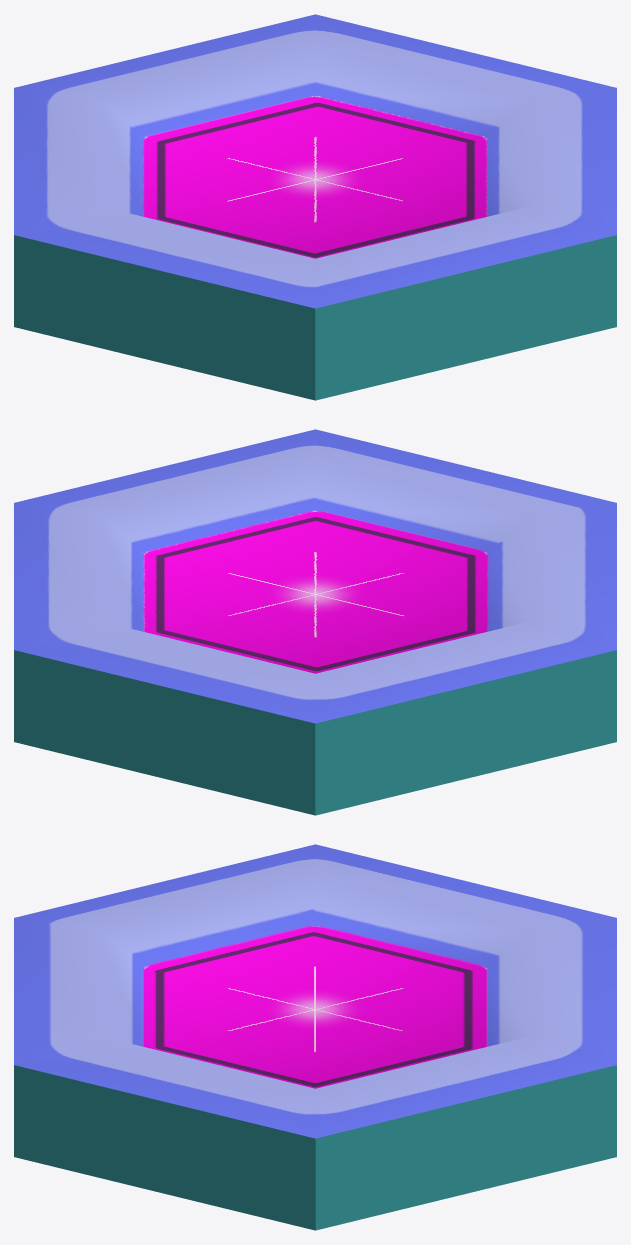
The model's file is hexfloor.fbx.
The picture shows the model from 3 angles, top to bottom: view 1: azimuth 30°, elevation 25°; view 2: azimuth 150°, elevation 25°; view 3: azimuth 270°, elevation 25°; orthographic projection.
Visible parts, largest first — view 1: pCylinder1; view 2: pCylinder1; view 3: pCylinder1.
Boxes of the visible parts, x1,y1,x2,y2 form: pCylinder1: (14,14,616,400); pCylinder1: (14,429,616,815); pCylinder1: (14,844,616,1230).
Size of the model in its own units: 7.5 by 1.2 by 6.5.
1 material, 1 textured.
